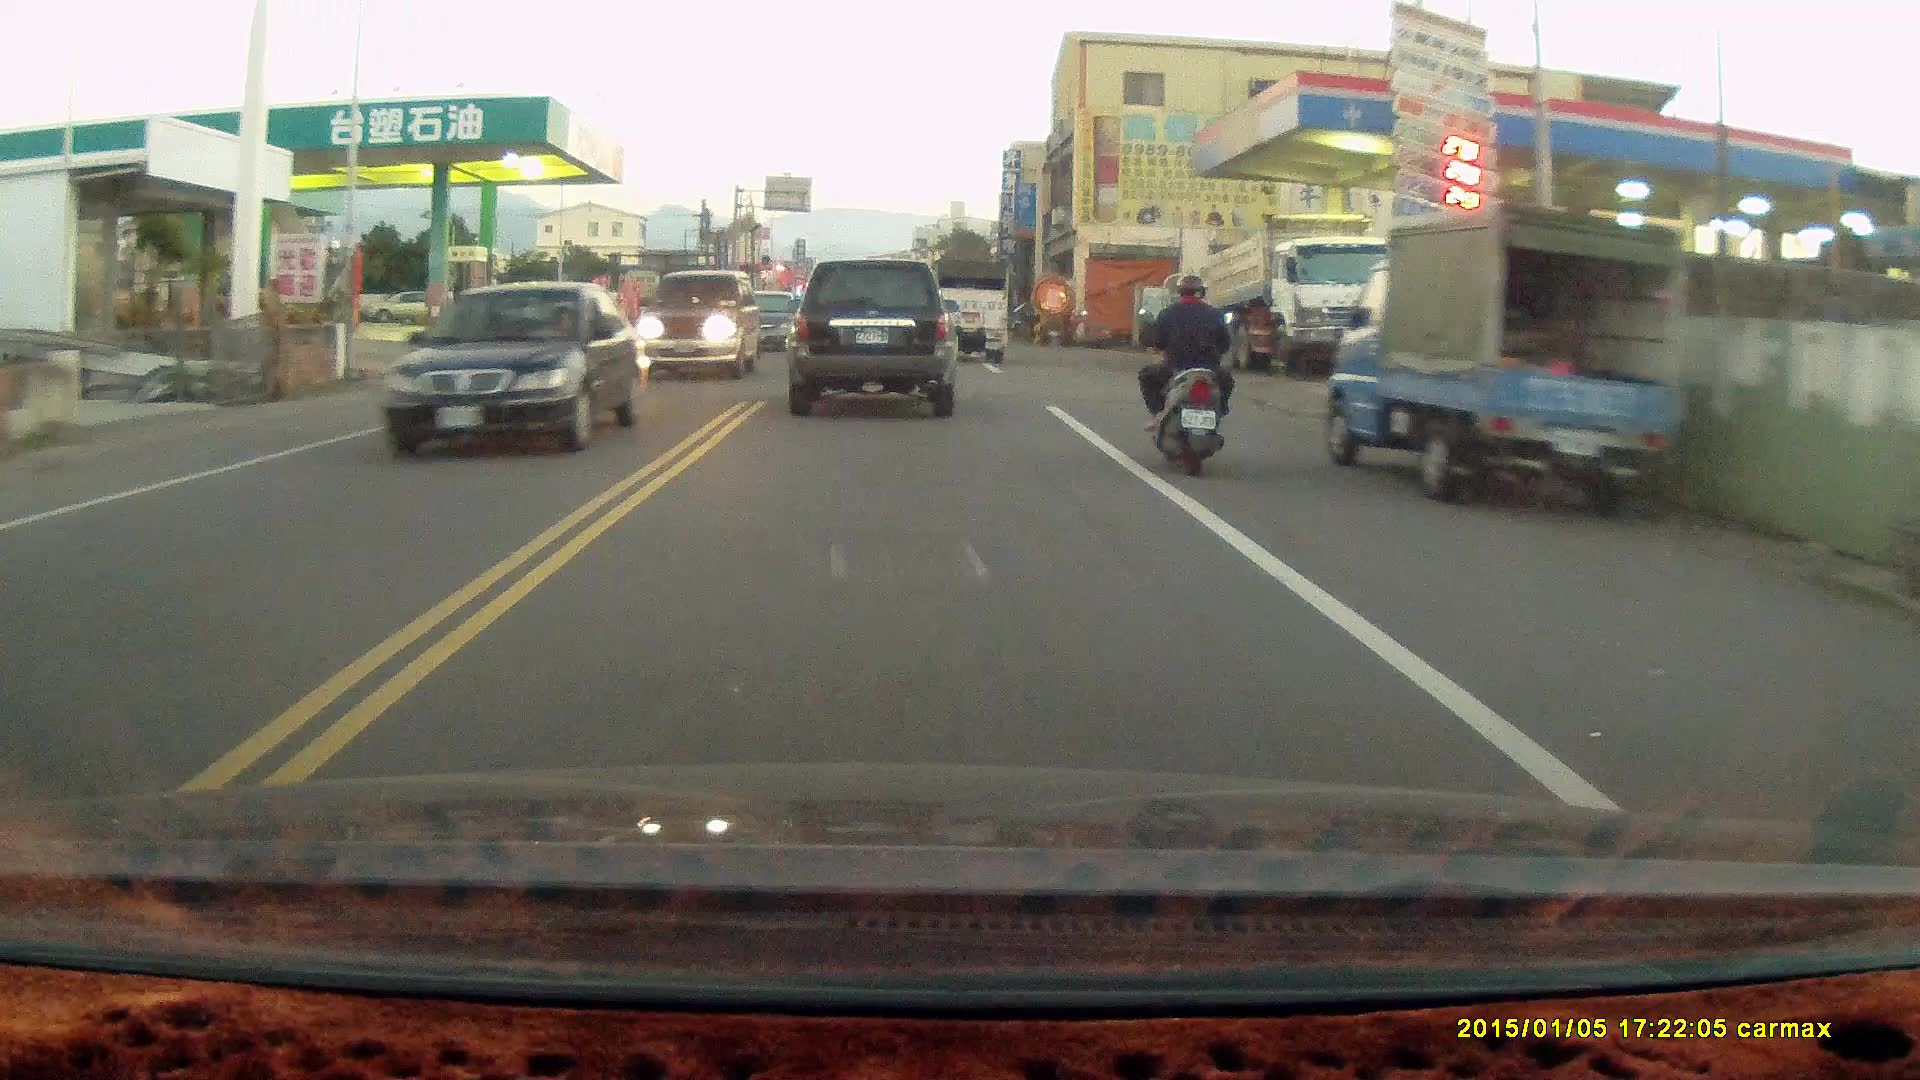rider: (1136, 274, 1237, 479)
vehicle: (1327, 209, 1693, 508), (385, 286, 650, 460), (788, 264, 957, 420), (641, 268, 766, 383), (918, 255, 1013, 367)
